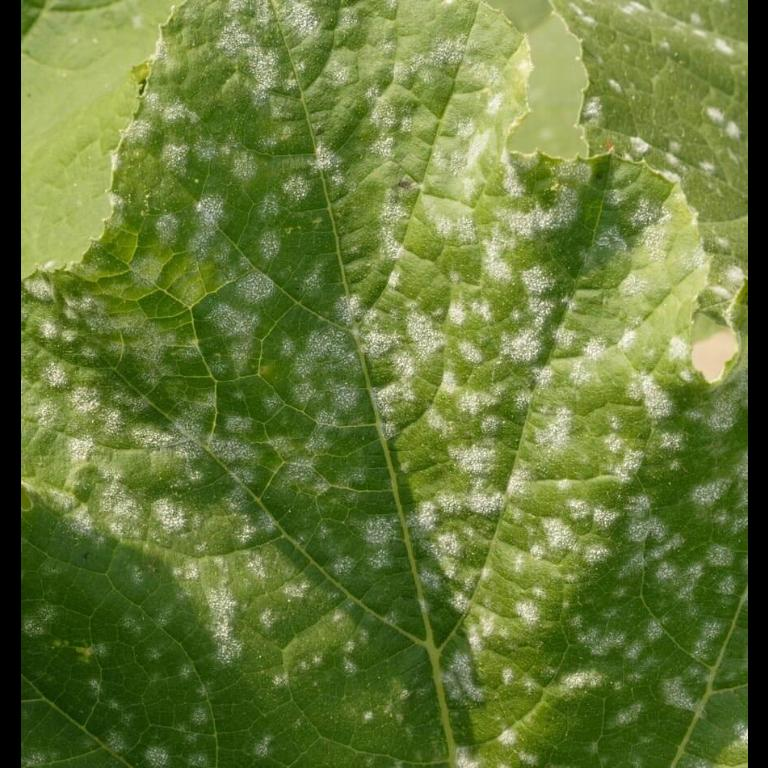powdery-mildew: (50, 383, 712, 761), (187, 30, 529, 352)
